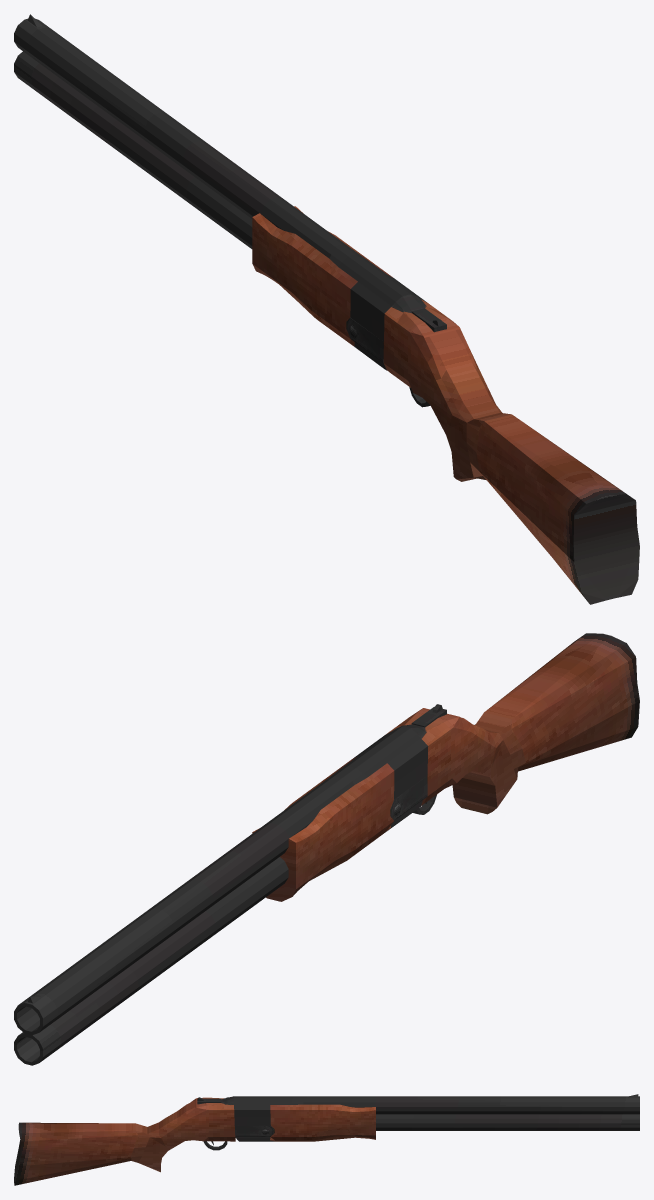
The model's file is shotgun(final.gltf.
3 views of the same model, one above another, from view 1: azimuth 30°, elevation 25°; view 2: azimuth 150°, elevation 25°; view 3: azimuth 270°, elevation 25° (orthographic). The views are drawn at different scales.
Visible parts, largest first — view 1: tube, pyramid_selection_selection, pyramid_selection_selection_selection; view 2: pyramid_selection_selection, tube, pyramid_selection_selection_selection; view 3: pyramid_selection_selection, tube, pyramid_selection_selection_selection.
Boxes of the visible parts, x1,y1,x2,y2 form: tube: (346,294,639,604); pyramid_selection_selection: (14,14,426,370); pyramid_selection_selection_selection: (252,206,392,346); pyramid_selection_selection: (14,726,428,1065); tube: (385,633,639,820); pyramid_selection_selection_selection: (252,757,394,901); pyramid_selection_selection: (234,1094,639,1141); tube: (14,1096,274,1185); pyramid_selection_selection_selection: (270,1104,375,1141).
Bounding box in the file's own units: 0.1129 × 0.2638 × 1.73.
Materials: 3 (3 with a texture image).
